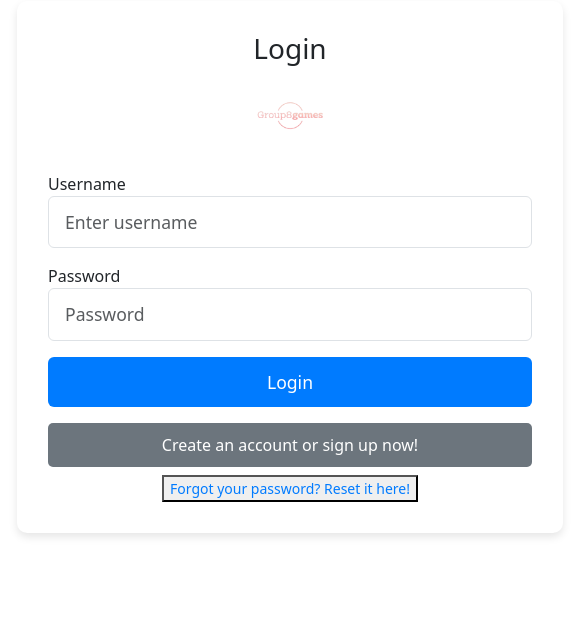
Test: Login Component › shows an error message if login fails
The width and height of the screenshot is (581, 637).
# Fill in the form
In the field labelled "Username": (290, 222) top-left (48, 196), bottom-right (532, 248), type "wronguser"
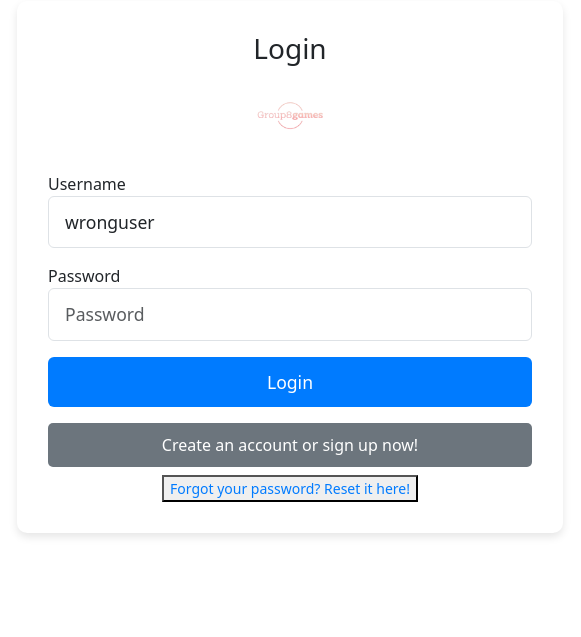
In the password field labelled "Password": (290, 315) top-left (48, 288), bottom-right (532, 341), type "wrongpassword"
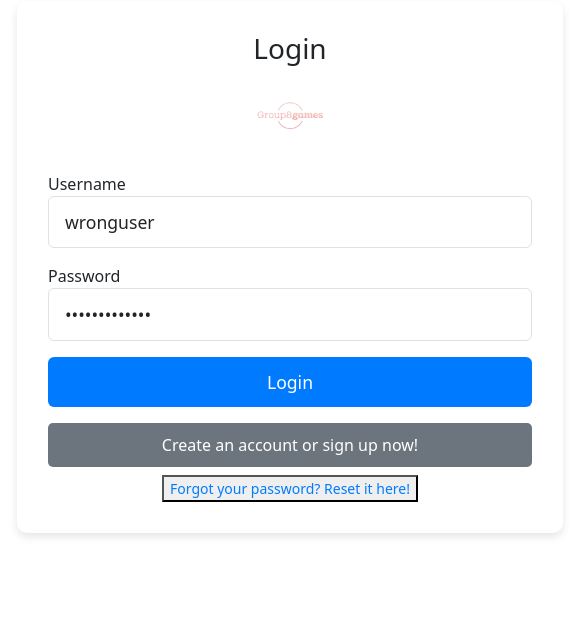
# Submit the form
Click the button "Login": (290, 382) top-left (48, 357), bottom-right (532, 407)
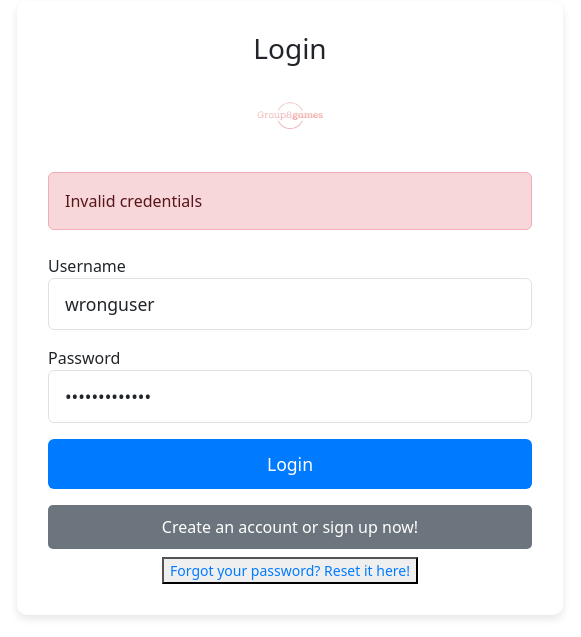
Check: the text "Invalid credentials" is shown, box top-left (48, 172), bottom-right (532, 230)
